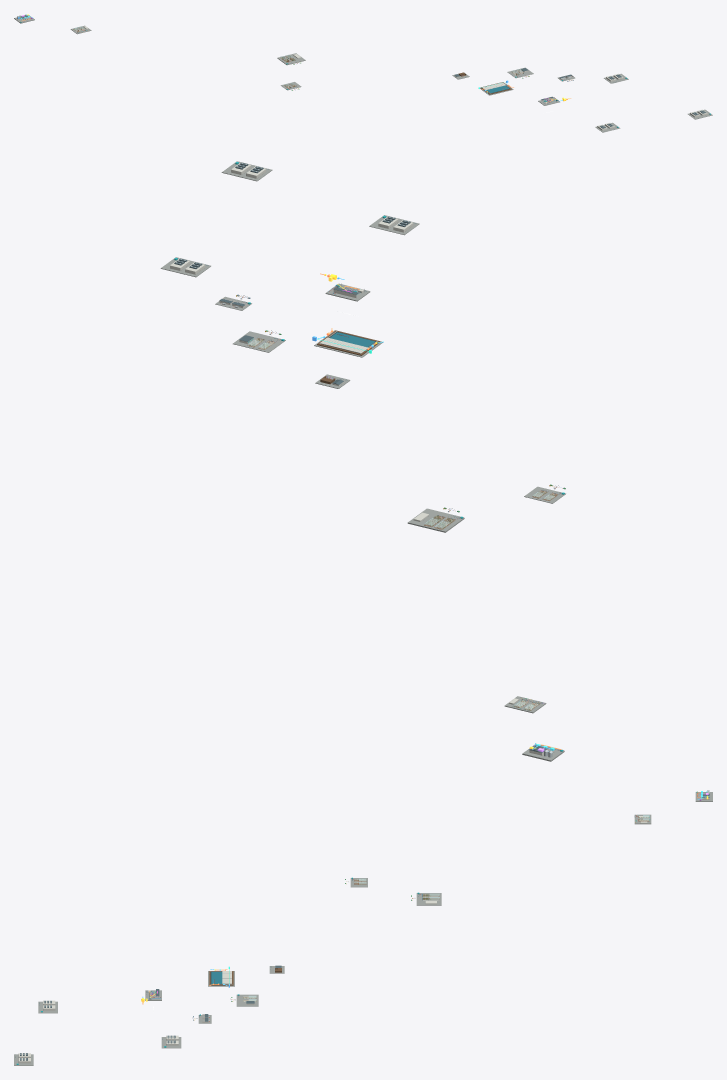
Rendered from facilities.glb.
3 views of the same model, one above another, from view 1: azimuth 30°, elevation 25°; view 2: azimuth 150°, elevation 25°; view 3: azimuth 270°, elevation 25° (orthographic). The views are drawn at different scales.
Bounding box in the file's own units: 5667 × 199 × 6215.
